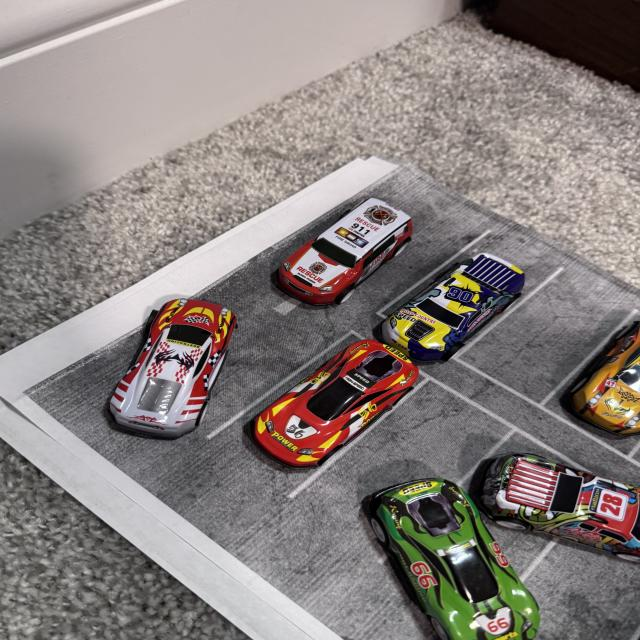car: (329, 492, 566, 640), (245, 350, 468, 458), (468, 427, 640, 537), (124, 297, 240, 441), (556, 312, 640, 478), (279, 190, 401, 300), (410, 257, 520, 373)
